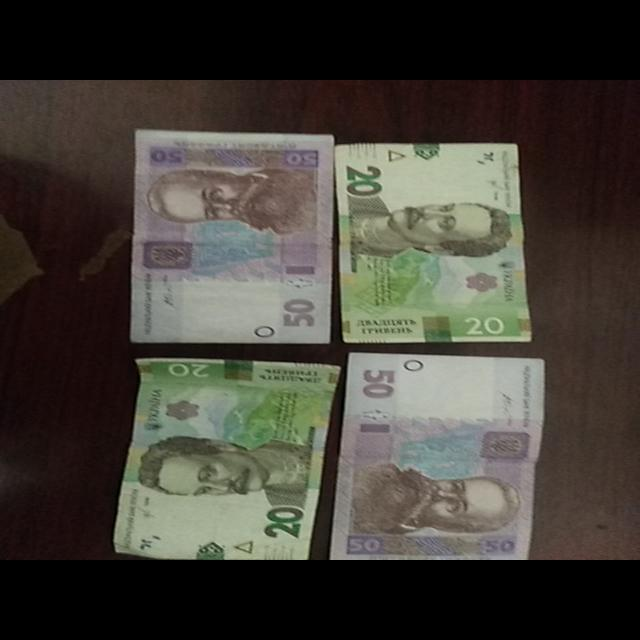20uah: (112, 359, 339, 560), (338, 145, 535, 340)
50uah: (329, 356, 545, 560), (129, 131, 332, 346)
